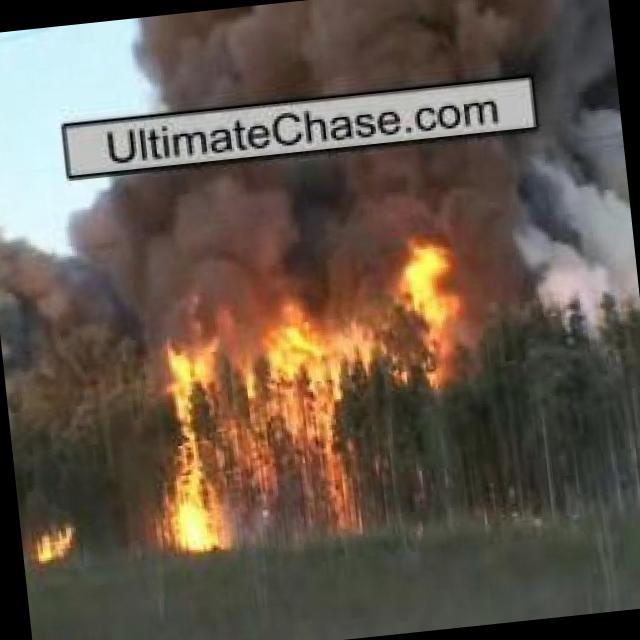Fire: (140, 312, 364, 563), (400, 226, 470, 382), (22, 518, 84, 564)
Smoke: (0, 108, 639, 358), (130, 0, 615, 118)
